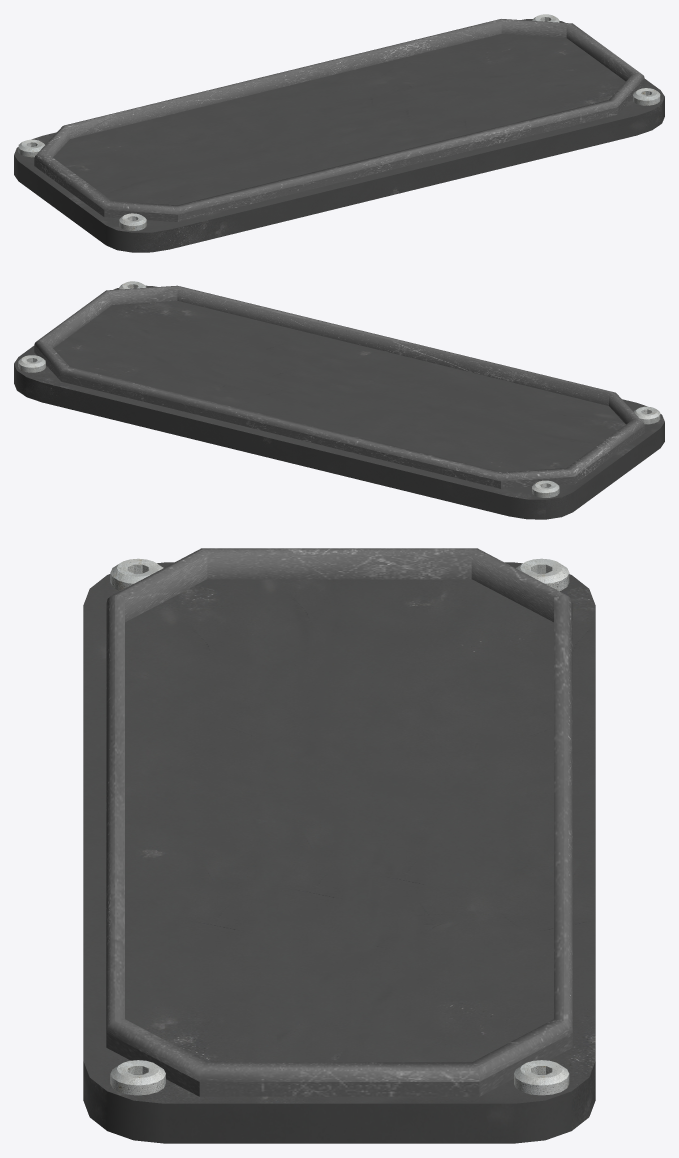
Rendered from F_Console_Panel_01.fbx.
The picture shows the model from 3 angles, top to bottom: view 1: azimuth 30°, elevation 25°; view 2: azimuth 150°, elevation 25°; view 3: azimuth 270°, elevation 25°; orthographic projection. The views are drawn at different scales.
Visible parts, largest first — view 1: F_Console_Panel_01; view 2: F_Console_Panel_01; view 3: F_Console_Panel_01.
Boxes of the visible parts, box(x1,y1,x2,y2) form: F_Console_Panel_01: box(14, 14, 664, 252); F_Console_Panel_01: box(14, 281, 664, 519); F_Console_Panel_01: box(83, 548, 595, 1143).
Size of the model in its own units: 150 by 8.33 by 60.
Materials: 1 (1 with a texture image).
